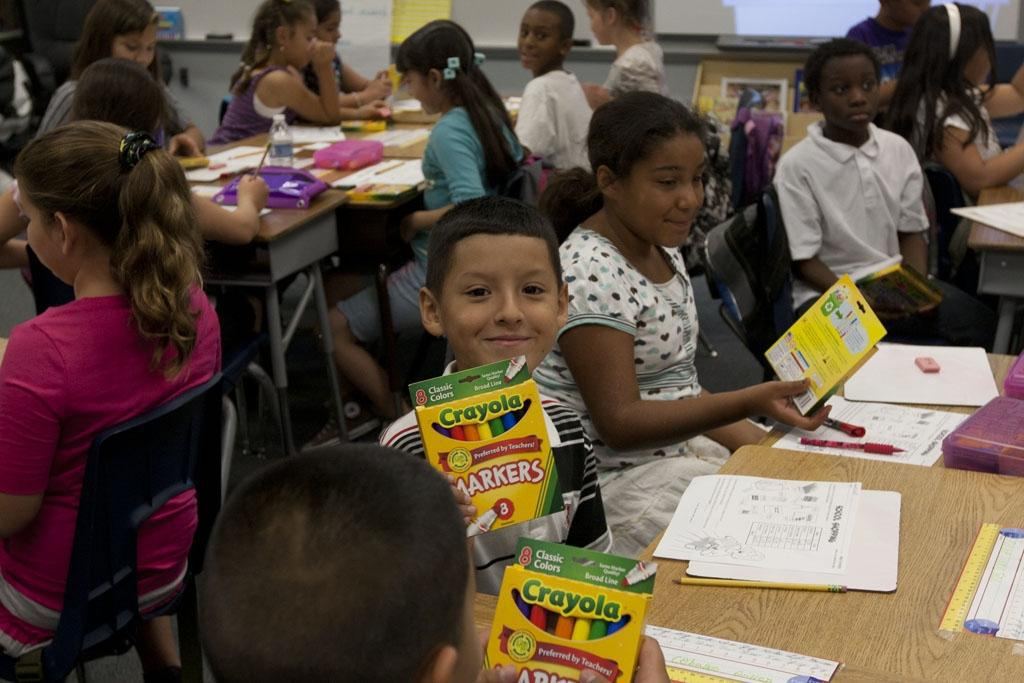face: (440, 241, 559, 376), (618, 147, 704, 248), (19, 179, 77, 286), (821, 64, 880, 133), (106, 21, 155, 79), (519, 18, 562, 68), (406, 71, 443, 114), (288, 23, 317, 66), (588, 3, 612, 45), (318, 13, 342, 50)
